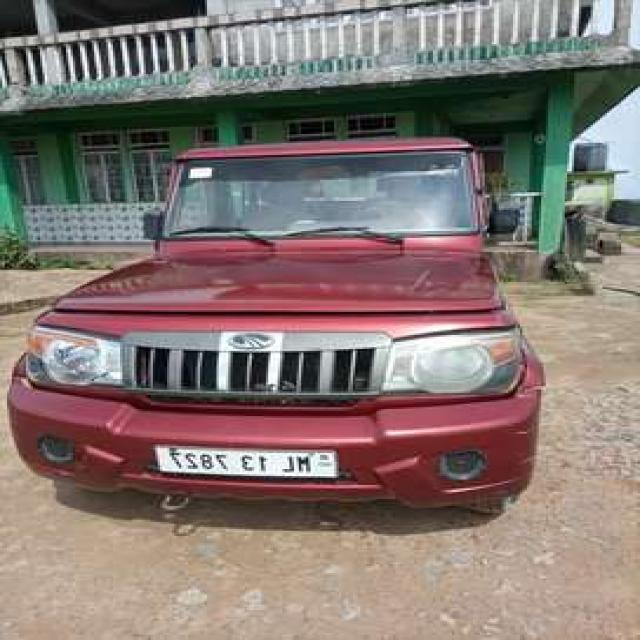license_plate: (148, 440, 347, 486)
